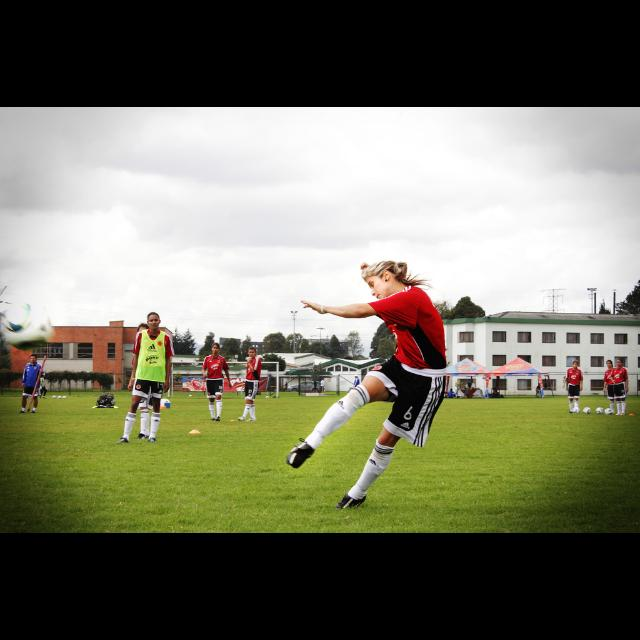Football: (1, 297, 54, 351), (594, 404, 602, 414), (602, 406, 612, 414), (582, 407, 590, 413)
